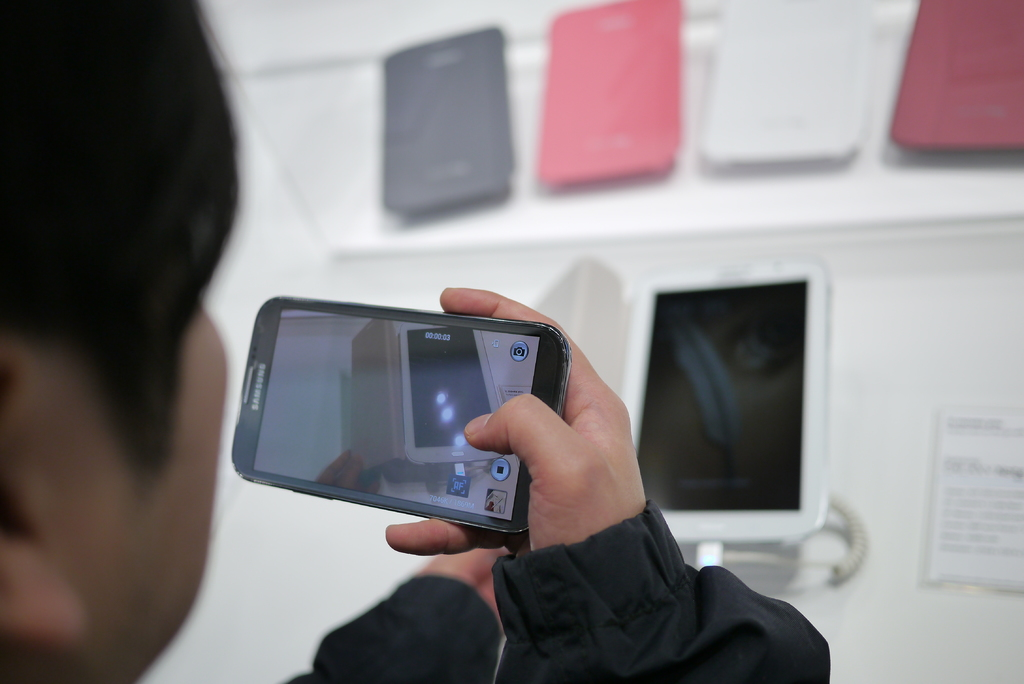Mobile-phone: (230, 295, 572, 540), (697, 0, 875, 162), (541, 0, 681, 188), (380, 28, 518, 215), (892, 0, 1023, 150)
